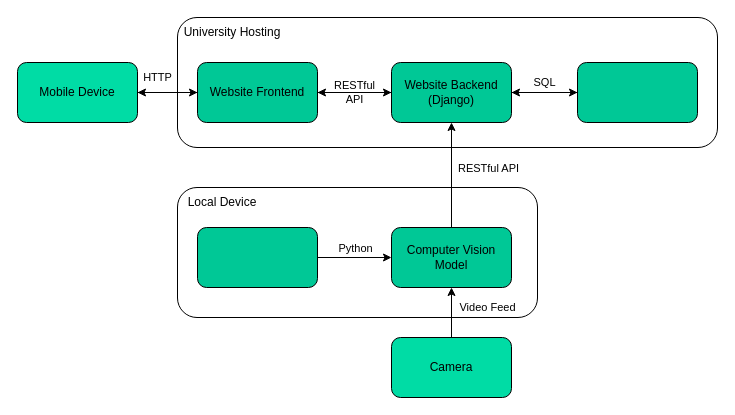
Image size: 735x415. Some labels were removed from this diagram. Here are the shapes that lost their labels. From the top down, the centre of each, then its label:
the point at 637,92: SQLite Database
the point at 257,257: Computer Vision Application
